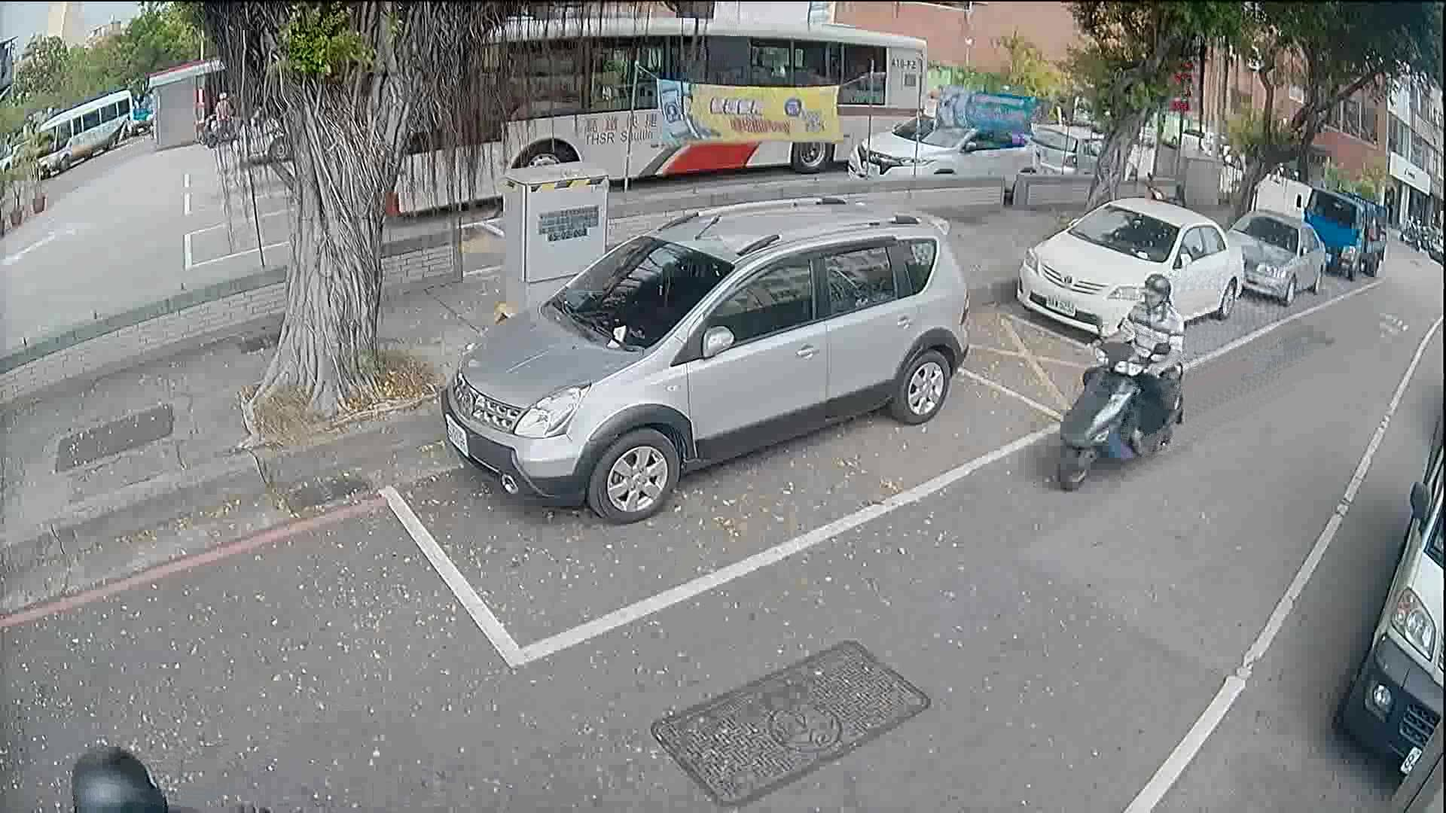person: (1078, 271, 1185, 452), (66, 741, 169, 811), (208, 85, 232, 143)
